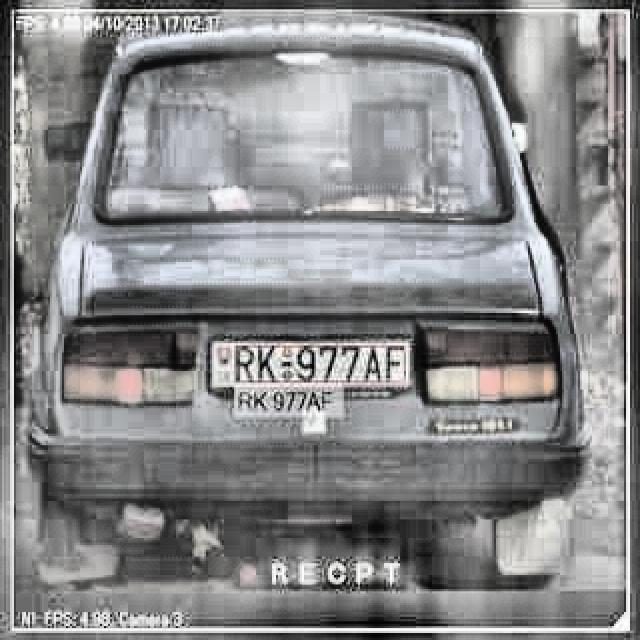license_plate: (214, 340, 407, 387), (233, 389, 341, 419)
